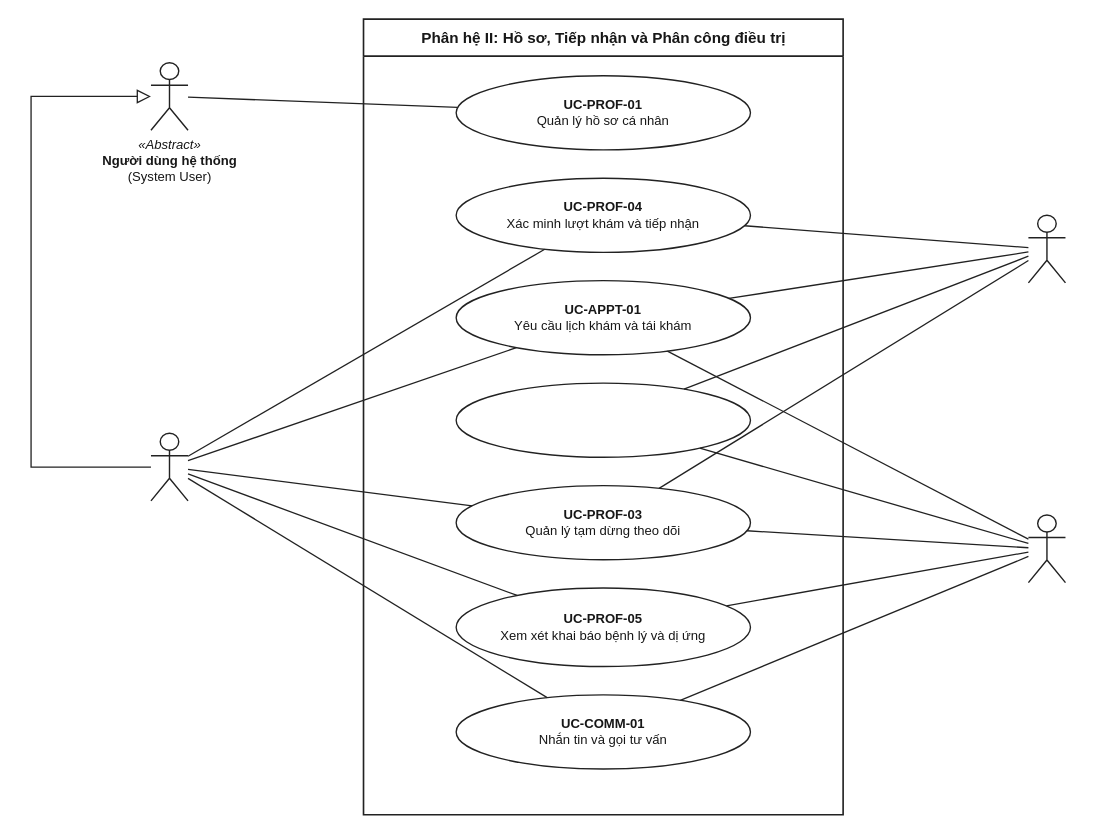
Some shapes in this 1110 by 835 pixel diagram are drawn without their labels. Each missing label, with the box of its shape:
Bác sĩ điều trị (Doctor): (1027, 514, 1066, 583)
Bệnh nhân (Patient): (150, 432, 188, 501)
Trưởng khoa (Head of Dept): (1027, 214, 1066, 283)
UC-PROF-02 Phân công bác sĩ điều trị (BR-01): (455, 382, 751, 457)
